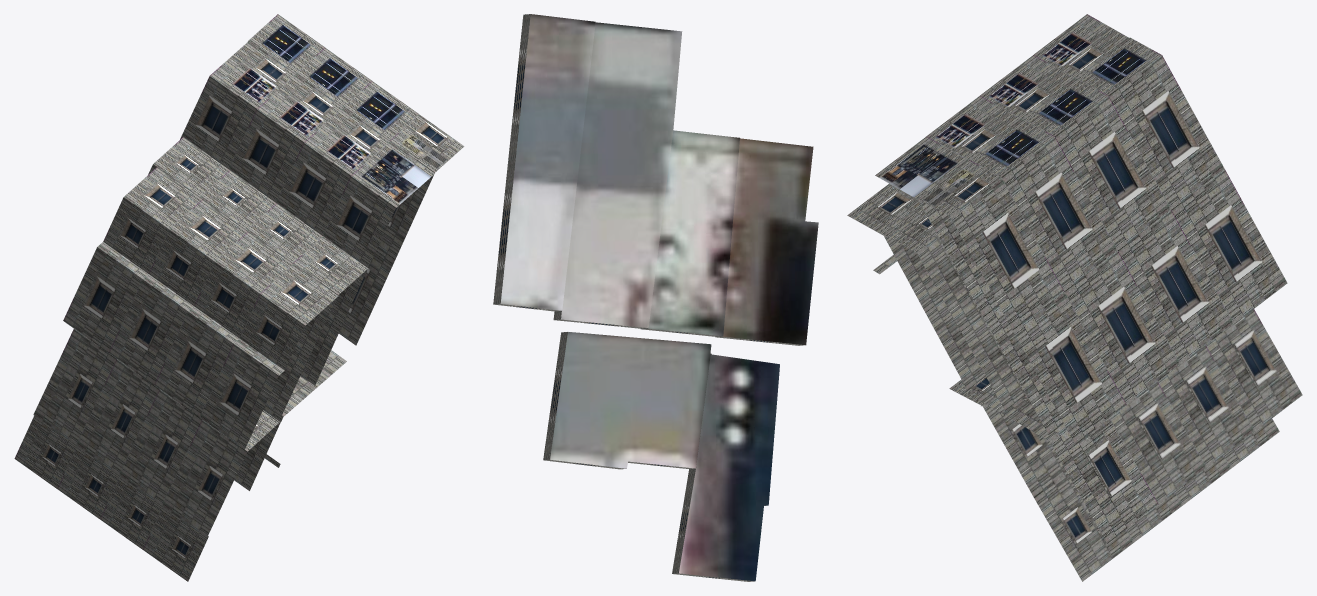
The picture shows the model from 3 angles, left to right: view 1: azimuth 30°, elevation 25°; view 2: azimuth 150°, elevation 25°; view 3: azimuth 270°, elevation 25°; orthographic projection. The views are drawn at different scales.
Bounding box in the file's own units: 21.89 × 31.88 × 22.47.
16 materials, 16 textured.
